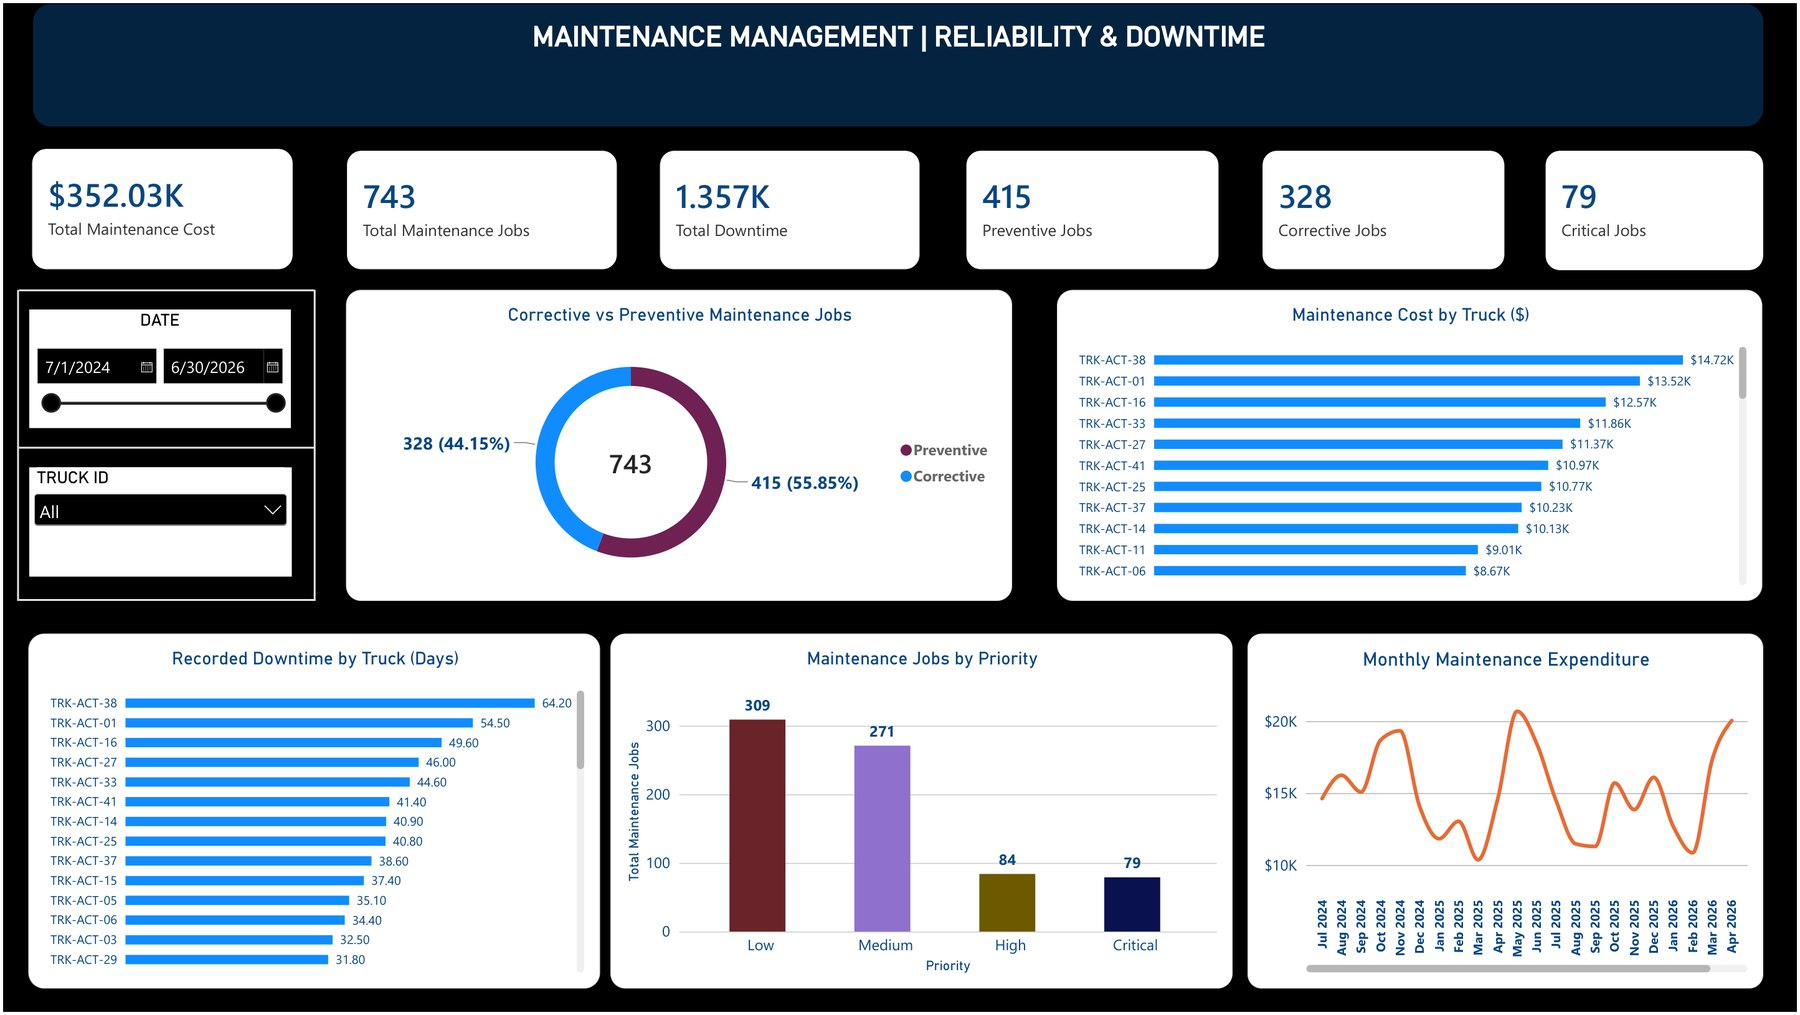

What the dashboard file says about the page in this screenshot:
{"tool":"powerbi","page":{"name":"Maintenance","canvas":[1920,1080],"ordinal":2},"visuals":[{"type":"textbox","box":[0,0,1920,96],"z":0},{"type":"slicer","fields":{"Values":["DimDate.Date"]},"box":[1150,12,470,72],"z":100},{"type":"slicer","fields":{"Values":["DimTruck.Truck ID"]},"box":[1636,12,260,72],"z":101},{"type":"card","fields":{"Values":["_Measures_.Total Maintenance Cost"]},"box":[24,112,298.7,112],"z":1000},{"type":"card","fields":{"Values":["_Measures_.Total Maintenance Jobs"]},"box":[338.7,112,298.7,112],"z":1001},{"type":"card","fields":{"Values":["_Measures_.Preventive Maintenance %"]},"box":[653.3,112,298.7,112],"z":1002},{"type":"card","fields":{"Values":["_Measures_.Critical Jobs"]},"box":[968,112,298.7,112],"z":1003},{"type":"card","fields":{"Values":["_Measures_.Total Downtime"]},"box":[1282.7,112,298.7,112],"z":1004},{"type":"card","fields":{"Values":["_Measures_.Average Downtime"]},"box":[1597.3,112,298.7,112],"z":1005},{"type":"card","fields":{"Values":["_Measures_.Insight - Maintenance"]},"box":[24,238,1872,62],"z":1100},{"type":"columnChart","title":"Monthly maintenance cost: preventive vs corrective","fields":{"Category":["DimDate.Month Year"],"Y":["_Measures_.Total Maintenance Cost"],"Series":["Maintenance.Maintenance Type Clean"]},"box":[24,316,1100,360],"z":2000},{"type":"clusteredColumnChart","title":"Jobs by priority","fields":{"Category":["Maintenance.Priority Clean"],"Y":["_Measures_.Total Maintenance Jobs"]},"box":[1140,316,756,360],"z":2001},{"type":"scatterChart","title":"Maintenance cost vs downtime (each dot = a truck)","fields":{"Category":["DimTruck.Truck ID"],"X":["_Measures_.Total Downtime"],"Y":["_Measures_.Total Maintenance Cost"]},"box":[24,692,1100,364],"z":2002},{"type":"clusteredBarChart","title":"10 trucks with the most downtime (days)","fields":{"Category":["DimTruck.Truck ID"],"Y":["_Measures_.Total Downtime"]},"box":[1140,692,756,364],"z":2003}]}

Visuals, with their boxes in screenshot pixels (x1, y1, x2, y2), scaled from the page's 1920x1080 canvas onto the 1800x1015 screenshot:
textbox: rect(0, 0, 1799, 90)
slicer - DimDate.Date: rect(1078, 11, 1519, 79)
slicer - DimTruck.Truck ID: rect(1534, 11, 1778, 79)
card - _Measures_.Total Maintenance Cost: rect(22, 105, 303, 211)
card - _Measures_.Total Maintenance Jobs: rect(318, 105, 598, 211)
card - _Measures_.Preventive Maintenance %: rect(612, 105, 892, 211)
card - _Measures_.Critical Jobs: rect(908, 105, 1188, 211)
card - _Measures_.Total Downtime: rect(1203, 105, 1483, 211)
card - _Measures_.Average Downtime: rect(1497, 105, 1778, 211)
card - _Measures_.Insight - Maintenance: rect(22, 224, 1778, 282)
"Monthly maintenance cost: preventive vs corrective" columnChart: rect(22, 297, 1054, 635)
"Jobs by priority" clusteredColumnChart: rect(1069, 297, 1778, 635)
"Maintenance cost vs downtime (each dot = a truck)" scatterChart: rect(22, 650, 1054, 992)
"10 trucks with the most downtime (days)" clusteredBarChart: rect(1069, 650, 1778, 992)
